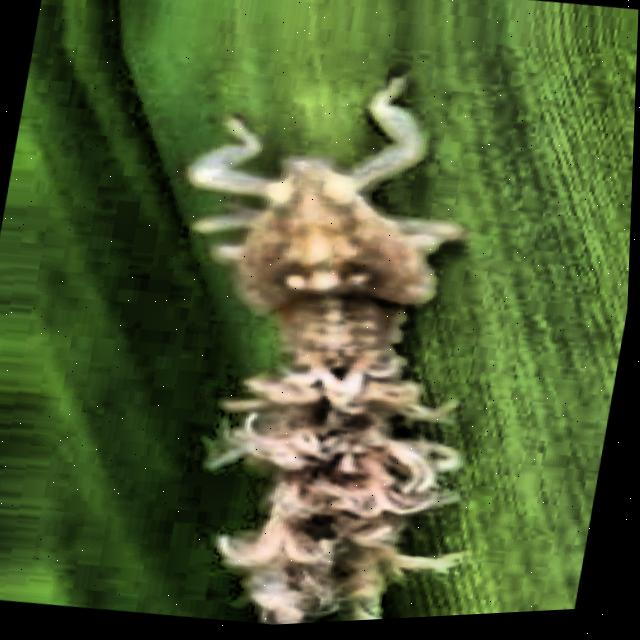Pyrilla-perpusilla: (12, 0, 639, 639)
